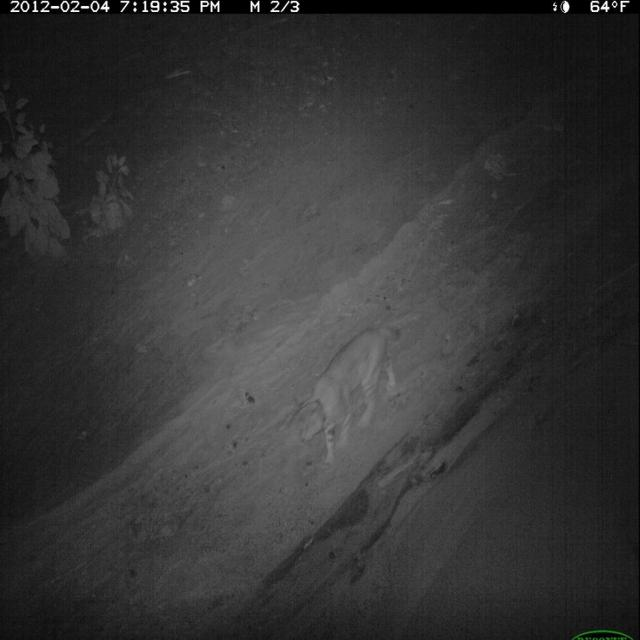bobcat: (293, 317, 410, 477)
